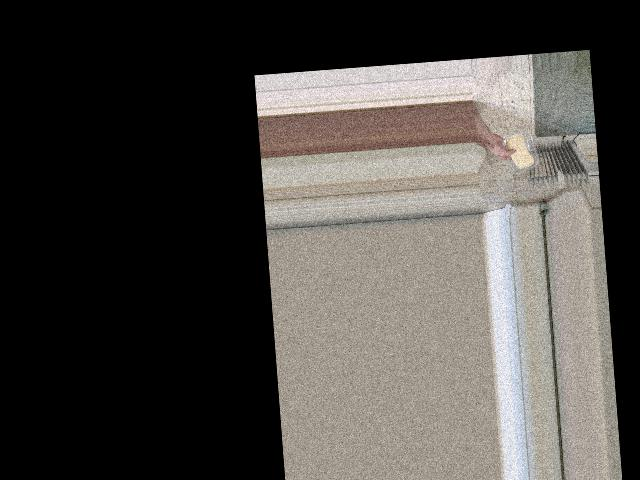cheese: (503, 130, 535, 173)
